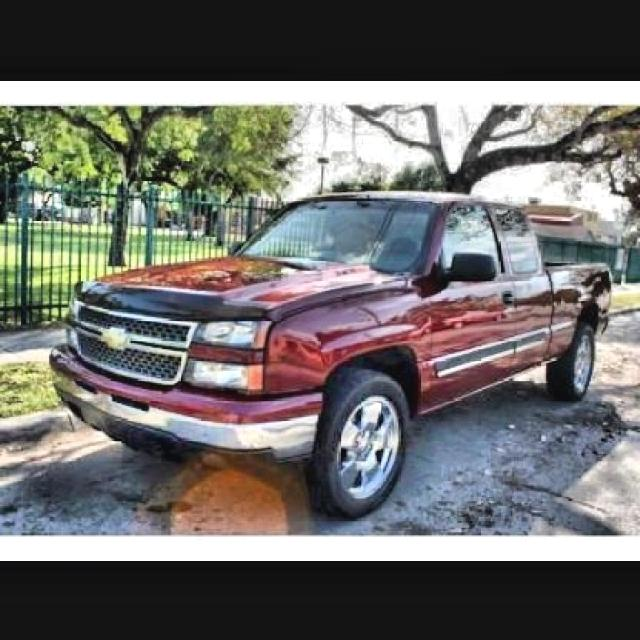maroon: (56, 186, 616, 457)
